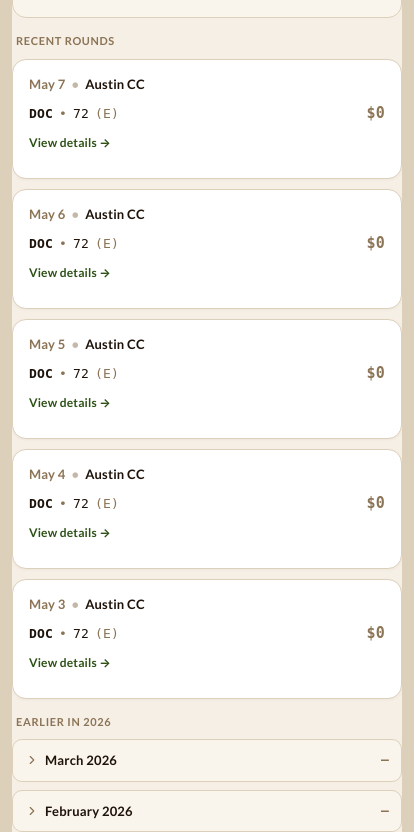
Test case: <ProfileRoundsList /> › two months can be expanded simultaneously
(page scrolled)
Step 1. Click the button with test id "month-2026-03-toggle" → click(81, 760), box [12,739,402,782]
(page scrolled)
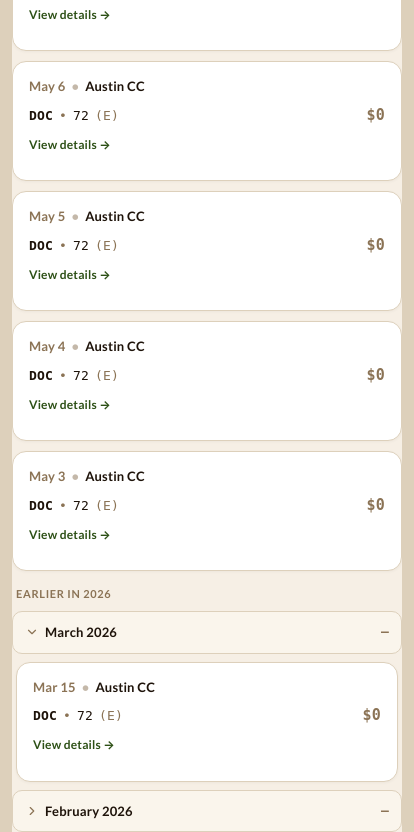
Step 2. Click the button with test id "month-2026-02-toggle" → click(89, 811), box [12,790,402,831]
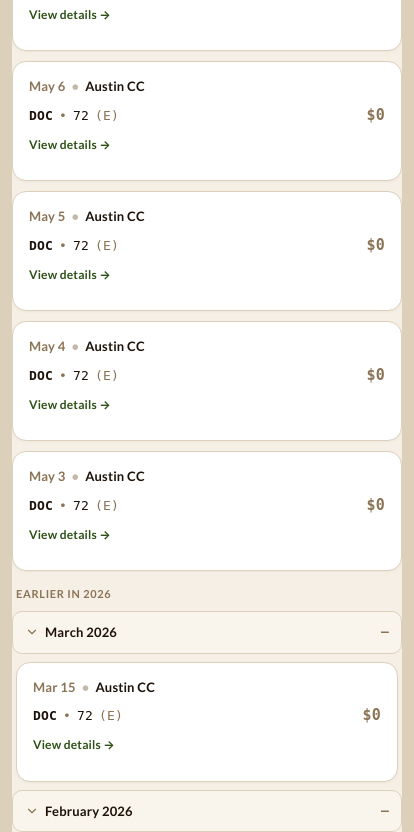
Expected: the button with test id "month-2026-03-toggle" is expanded, [12,611,402,654]
Expected: the button with test id "month-2026-02-toggle" is expanded, [12,790,402,831]
